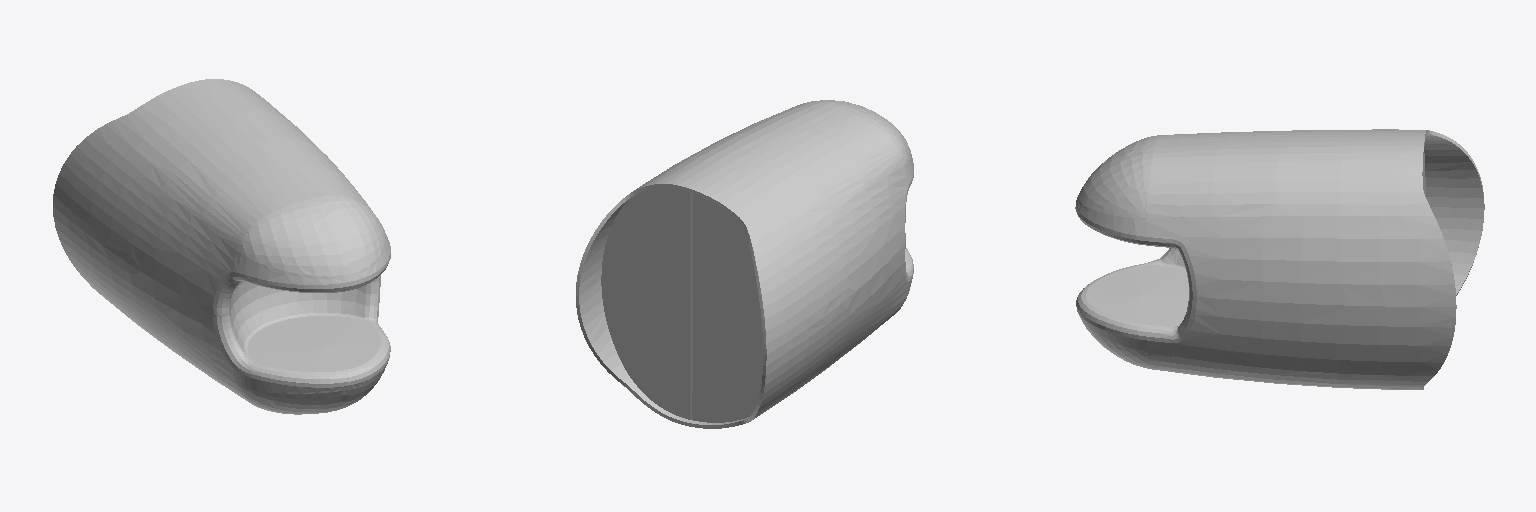
Rendered from arm_5-wrist-2017.obj.
3 views of the same model, side by side, from view 1: azimuth 30°, elevation 25°; view 2: azimuth 150°, elevation 25°; view 3: azimuth 270°, elevation 25° (orthographic).
Parts seen in each view (by area): view 1: arm_5_wrist_2017; view 2: arm_5_wrist_2017; view 3: arm_5_wrist_2017.
Boxes of the visible parts, <box> form: arm_5_wrist_2017: <box>53,79,390,414</box>; arm_5_wrist_2017: <box>576,100,913,428</box>; arm_5_wrist_2017: <box>1075,129,1484,389</box>.
Size of the model in its own units: 0.122 by 0.1331 by 0.2074.